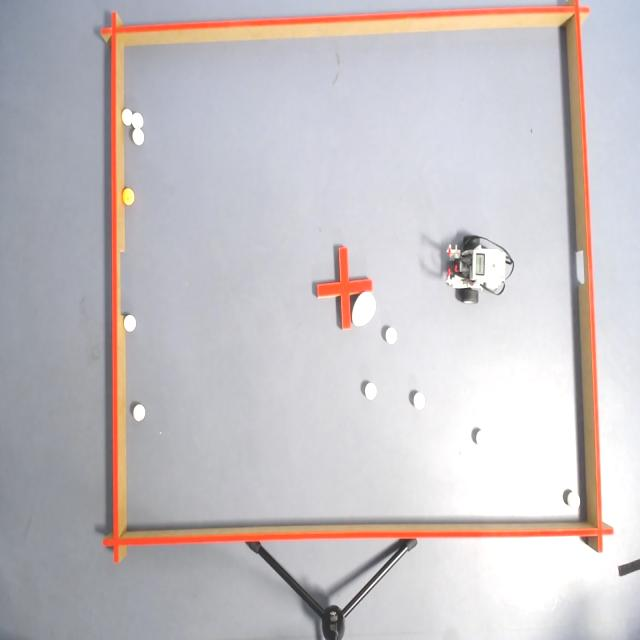boundaries: (562, 0, 618, 554), (100, 514, 616, 561), (96, 0, 594, 48), (101, 15, 128, 569)
cross: (316, 247, 372, 331)
egg: (351, 292, 377, 328)
large_goal: (101, 233, 137, 332)
orange_ball: (122, 187, 136, 206)
robot: (445, 234, 515, 305)
small_goal: (560, 228, 605, 305)
white_ball: (475, 429, 489, 449), (133, 403, 146, 422), (123, 314, 136, 333), (385, 326, 398, 345), (567, 492, 581, 509), (413, 391, 425, 410), (364, 382, 377, 399), (131, 112, 144, 129), (132, 129, 144, 146), (121, 108, 132, 126)
